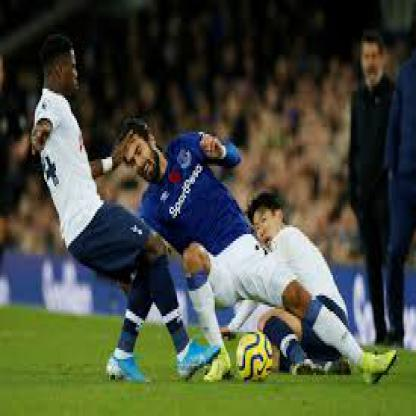Fall_Down: (120, 119, 398, 386)
